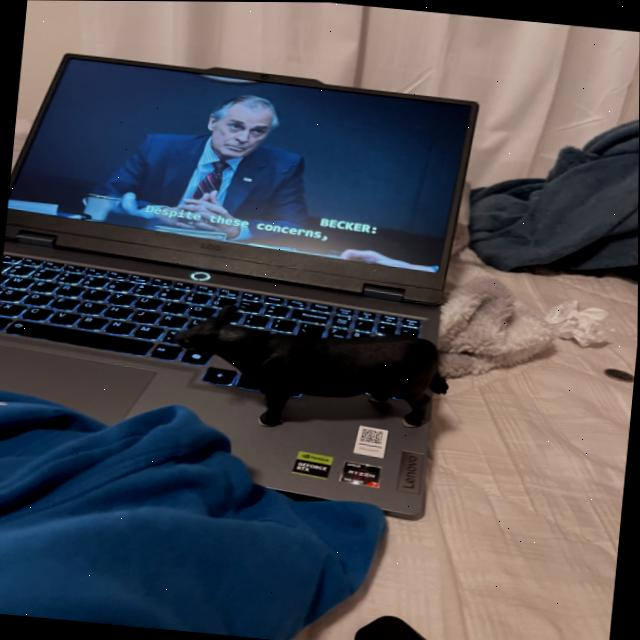cow: (164, 295, 453, 455)
